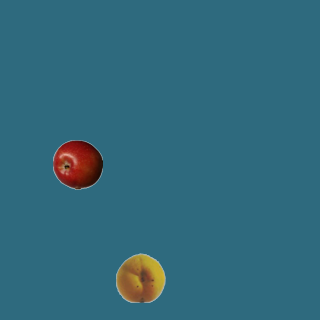Apple Braeburn: (52, 139, 102, 189)
Peach 2: (115, 252, 165, 302)
